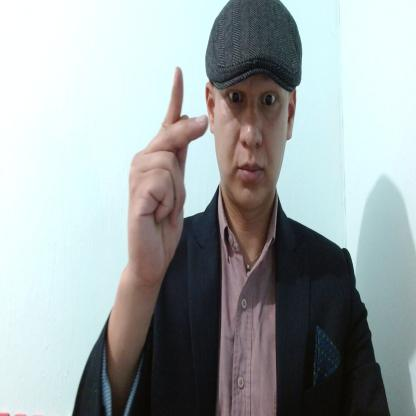P: (125, 61, 210, 284)
